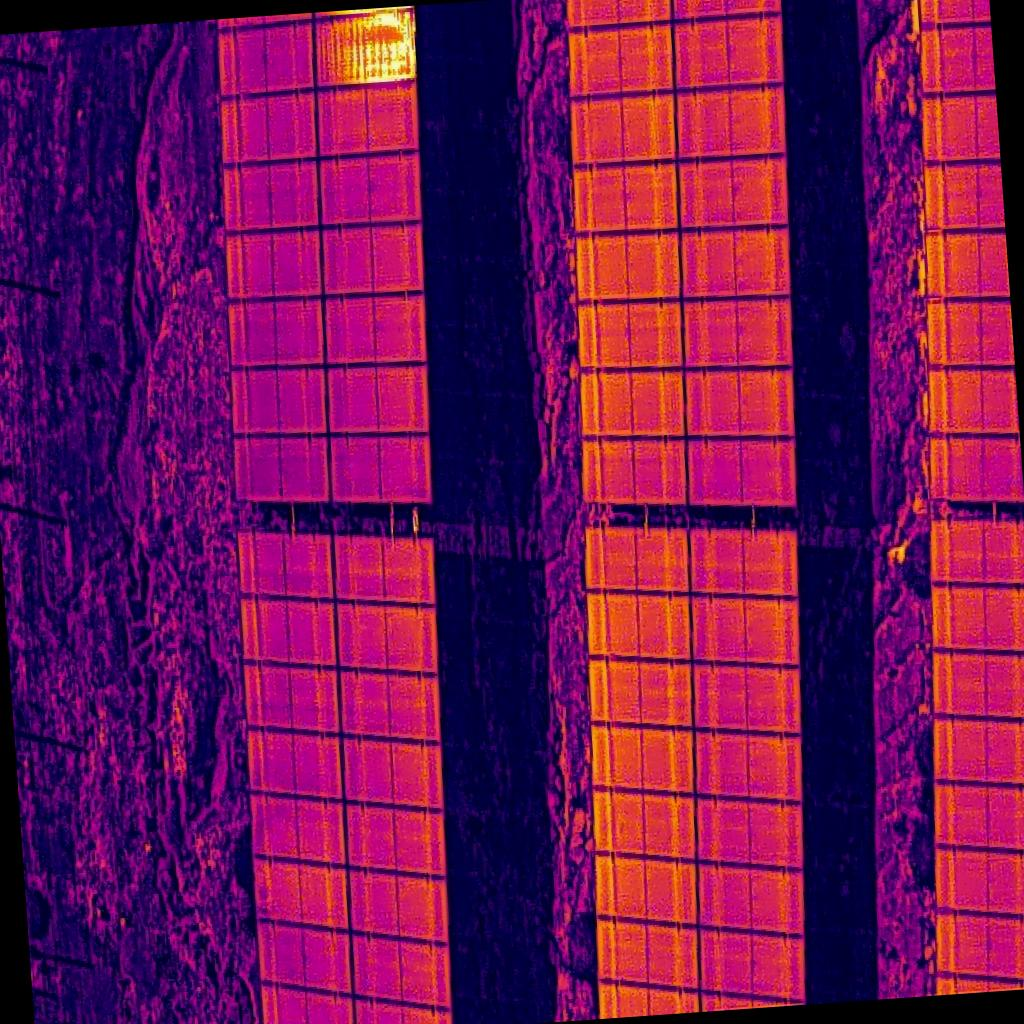panel: (697, 797, 805, 869), (315, 11, 417, 85), (581, 369, 685, 436), (249, 728, 342, 800)
